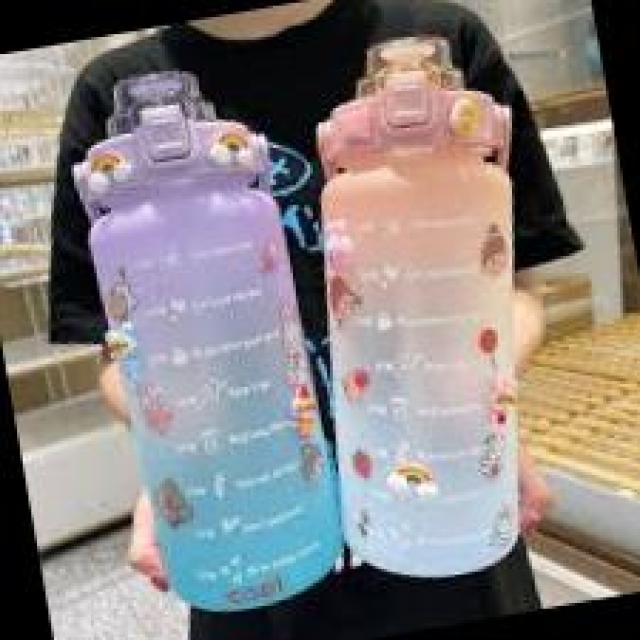bottle: (250, 12, 594, 600), (41, 50, 363, 630)
